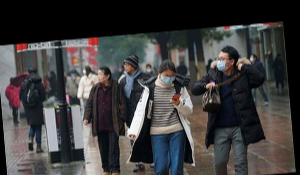with_mask: (216, 54, 230, 73), (161, 71, 176, 85), (145, 65, 152, 73), (70, 70, 77, 78), (82, 66, 87, 75), (249, 54, 254, 62)
without_mask: (97, 71, 106, 84), (123, 61, 132, 73)
